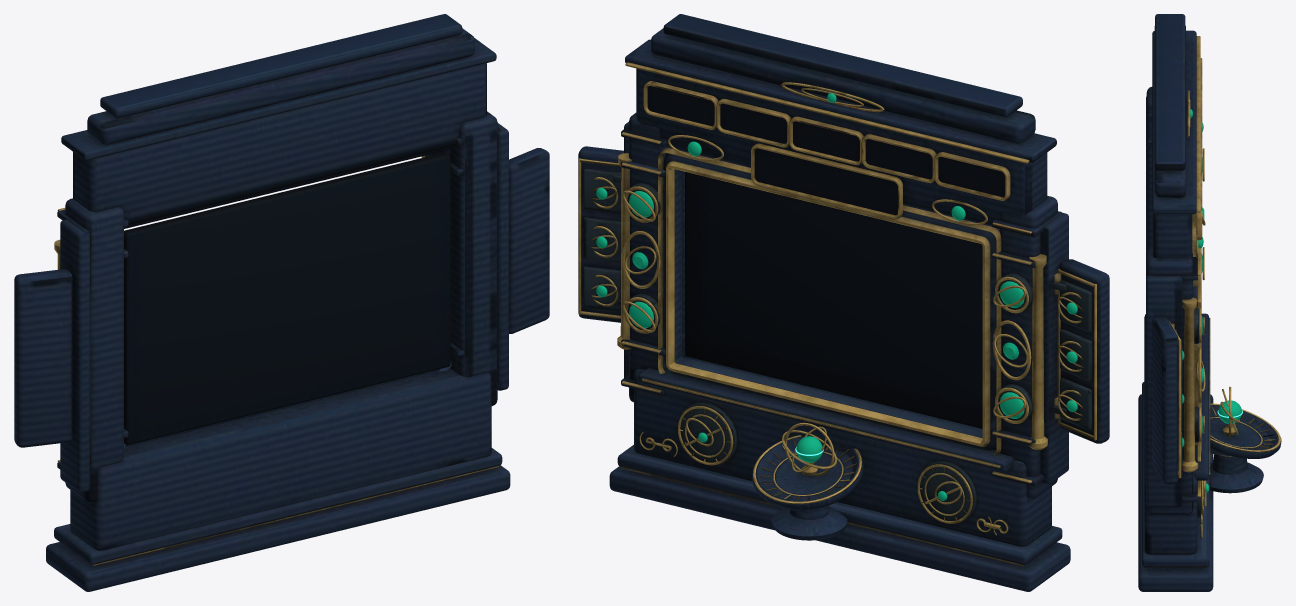
The picture shows the model from 3 angles, left to right: view 1: azimuth 30°, elevation 25°; view 2: azimuth 150°, elevation 25°; view 3: azimuth 270°, elevation 25°; orthographic projection. The views are drawn at different scales.
Visible parts, largest first — view 1: Observatory_slate, Display_enamel, Antique_orbit_brass; view 2: Observatory_slate, Display_enamel, Antique_orbit_brass, Mechanism_steel, glow_Emerald_optics; view 3: Observatory_slate, Antique_orbit_brass, glow_Emerald_optics, Mechanism_steel.
Boxes of the visible parts, x1,y1,x2,y2 form: Observatory_slate: (14, 14, 549, 591); Display_enamel: (124, 152, 450, 444); Antique_orbit_brass: (54, 155, 498, 565); Observatory_slate: (578, 14, 1109, 591); Display_enamel: (647, 86, 1005, 428); Antique_orbit_brass: (578, 62, 1096, 566); Mechanism_steel: (583, 168, 1092, 524); glow_Emerald_optics: (596, 93, 1077, 500); Observatory_slate: (1138, 14, 1281, 591); Antique_orbit_brass: (1143, 36, 1280, 567); glow_Emerald_optics: (1182, 109, 1241, 492); Mechanism_steel: (1175, 308, 1200, 517).
Bounding box in the file's own units: 11.76 × 9.9 × 3.1.
Materials: 6 (4 with a texture image).
